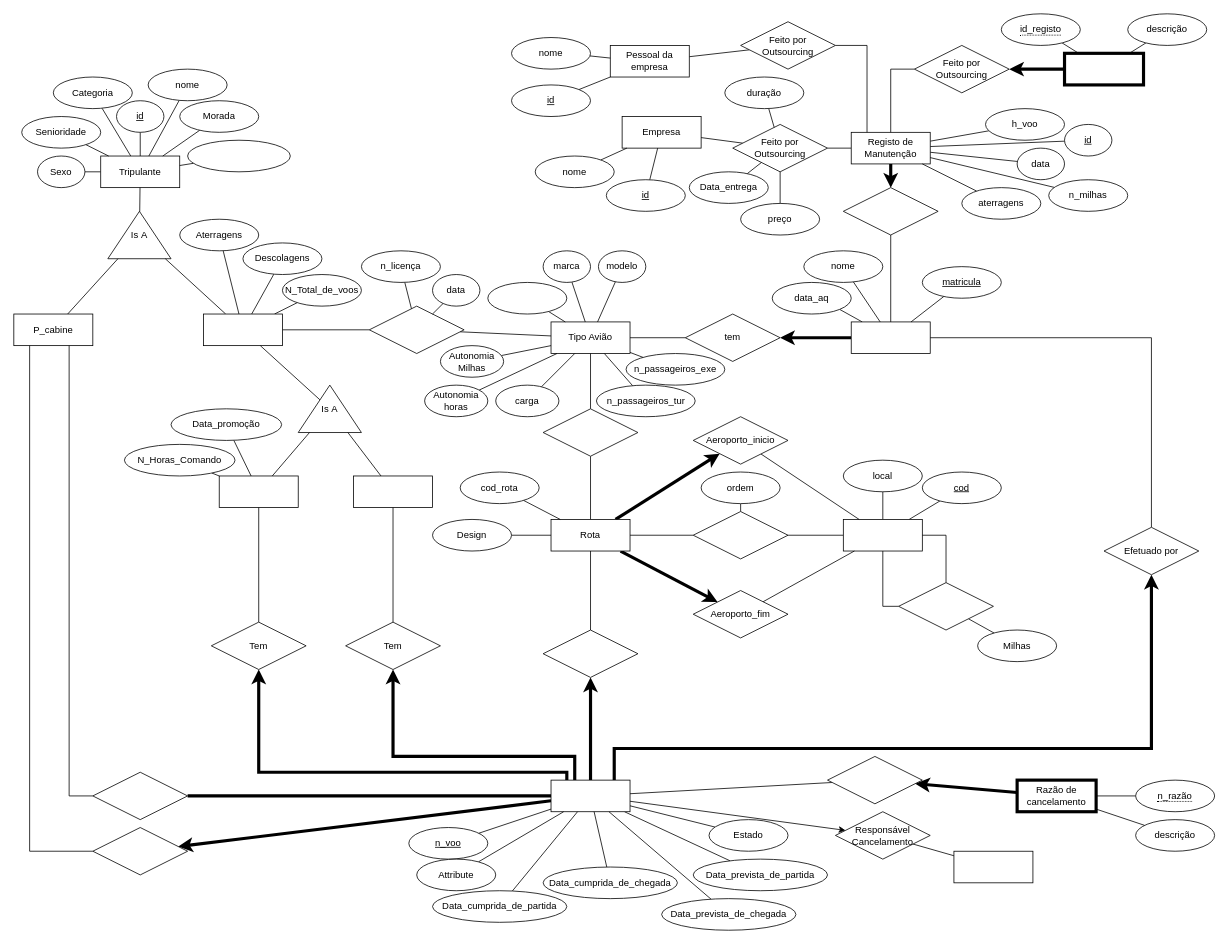
This 1228x944 diagram has some shape labels left out. The centre of each missing label's shape, as x and y in pixels:
"Aeroporto" goes at point 882,535.
"Avião" goes at point 890,337.
"Cancelado" goes at point 874,780.
"Co-piloto" goes at point 393,491.
"cod_tipo" goes at point 527,298.
"Comandante" goes at point 258,491.
"Composto" goes at point 140,795.
"data-de-nascimento" goes at point 238,155.
"distância" goes at point 945,606.
"Escalas" goes at point 740,535.
"P_cabine_chefe" goes at point 140,851.
"Percorrida por" goes at point 590,432.
"Pessoa" goes at point 993,866.
"pilota" goes at point 416,329.
"Piloto" goes at point 242,329.
"Produz" goes at point 890,211.
"Registo de Situação" goes at point 1104,68.
"Segue" goes at point 590,653.
"Voo" goes at point 590,795.
